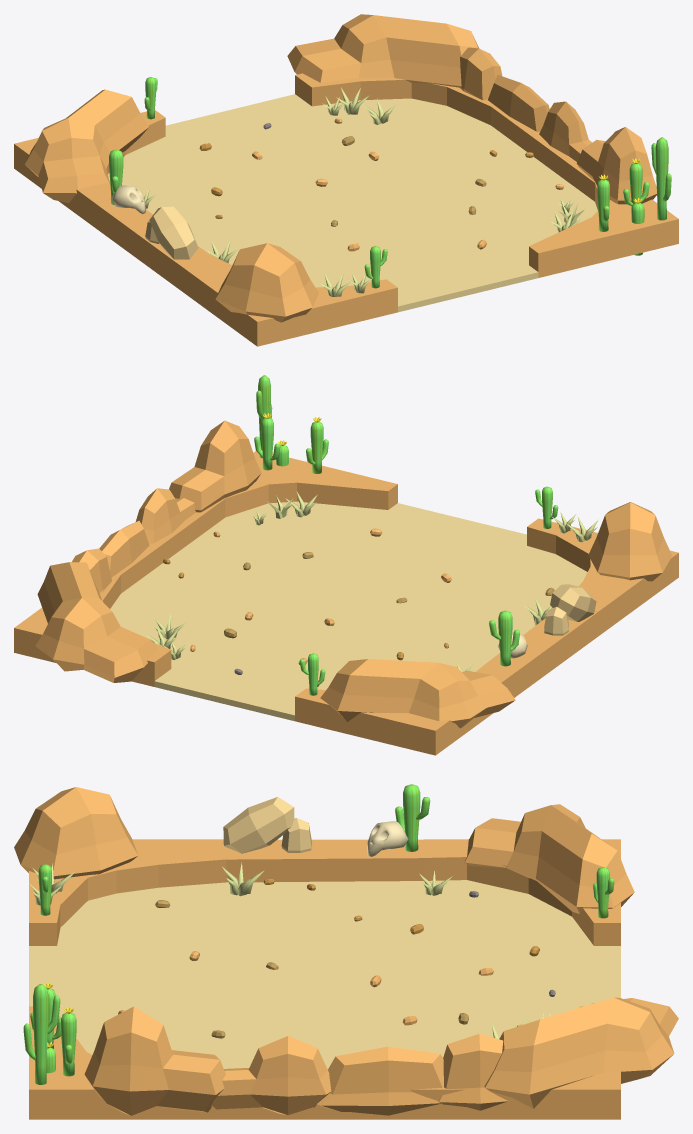
The model's file is desert level set - 2 Way (2).fbx.
3 renders of one model, top to bottom at view 1: azimuth 30°, elevation 25°; view 2: azimuth 150°, elevation 25°; view 3: azimuth 270°, elevation 25°, orthographic. The views are drawn at different scales.
Visible parts, largest first — view 1: land_platform_001, Cube_008, Cube_004, Cube_005, Cube_009, Cube_000, Cube_001, Cube_007, Cube_006, CACTUS_002, CACTUS_001, skull_bone (+3 smaller); view 2: land_platform_001, Cube_004, Cube_008, Cube_005, Cube_009, Cube_001, Cube_007, Cube_000, CACTUS_006, Cube_006, CACTUS_001, CACTUS_005 (+3 smaller); view 3: land_platform_001, Cube_008, Cube_004, Cube_009, Cube_005, Cube_000, Cube_001, Cube_006, Cube_007, CACTUS_002, CACTUS_006, skull_bone (+4 smaller).
Boxes of the visible parts, box(x1,y1,x2,y2) form: land_platform_001: box(14, 73, 678, 346); Cube_008: box(287, 14, 479, 87); Cube_004: box(25, 89, 148, 203); Cube_005: box(215, 243, 318, 322); Cube_009: box(576, 127, 656, 204); Cube_000: box(488, 75, 549, 131); Cube_001: box(539, 101, 591, 161); Cube_007: box(145, 206, 198, 259); Cube_006: box(460, 47, 502, 100); CACTUS_002: box(651, 137, 671, 220); CACTUS_001: box(623, 158, 649, 213); skull_bone: box(112, 185, 145, 213); land_platform_001: box(14, 451, 678, 755); Cube_004: box(320, 659, 515, 728); Cube_008: box(35, 562, 157, 682); Cube_005: box(588, 502, 672, 581); Cube_009: box(169, 420, 261, 512); Cube_001: box(135, 488, 195, 543); Cube_007: box(544, 584, 596, 635); Cube_000: box(99, 520, 149, 577); CACTUS_006: box(489, 610, 519, 666); Cube_006: box(72, 548, 111, 594); CACTUS_001: box(254, 413, 280, 470); CACTUS_005: box(306, 417, 328, 473); land_platform_001: box(29, 839, 620, 1119); Cube_008: box(484, 997, 678, 1108); Cube_004: box(464, 804, 634, 913); Cube_009: box(84, 1006, 225, 1115); Cube_005: box(14, 787, 138, 879); Cube_000: box(316, 1046, 443, 1115); Cube_001: box(211, 1036, 331, 1115); Cube_006: box(438, 1033, 508, 1110); Cube_007: box(223, 797, 312, 853); CACTUS_002: box(23, 984, 60, 1084); CACTUS_006: box(395, 784, 430, 851); skull_bone: box(367, 821, 408, 856).
Size of the model in its own units: 16.66 by 3.87 by 17.05.
